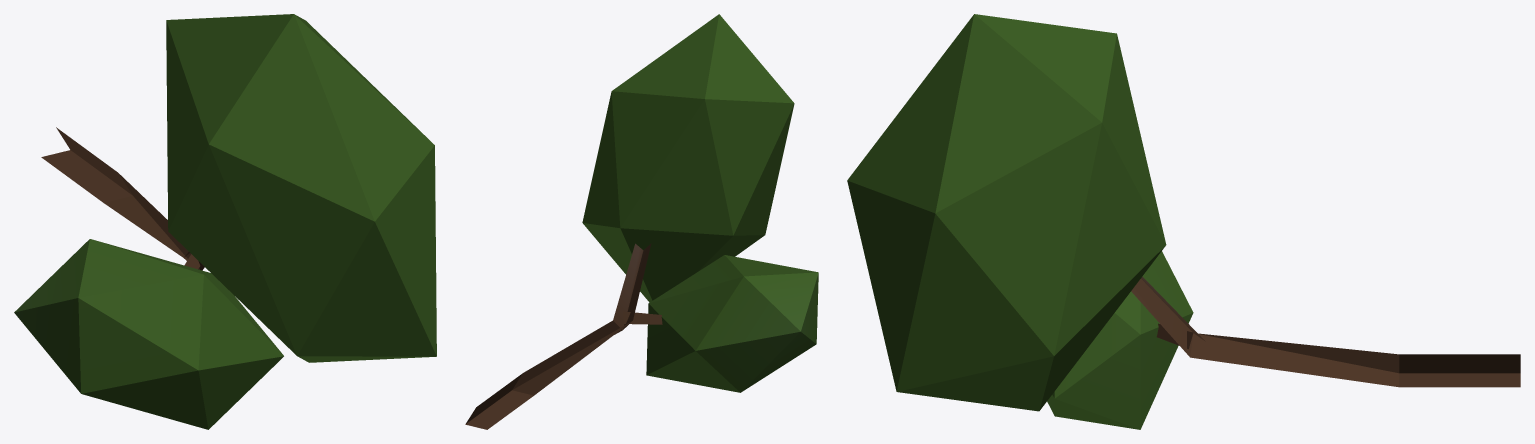
Rendered from tree.glb.
The picture shows the model from 3 angles, left to right: view 1: azimuth 30°, elevation 25°; view 2: azimuth 150°, elevation 25°; view 3: azimuth 270°, elevation 25°; orthographic projection. The views are drawn at different scales.
Parts seen in each view (by area): view 1: Icosphere.001; view 2: Icosphere.001; view 3: Icosphere.001.
Part boxes in pixels (box(x1,y1,x2,y2)): Icosphere.001: box(14, 14, 436, 429); Icosphere.001: box(465, 14, 818, 429); Icosphere.001: box(847, 14, 1520, 429).
Bounding box in the file's own units: 19.75 × 24.48 × 35.3.
